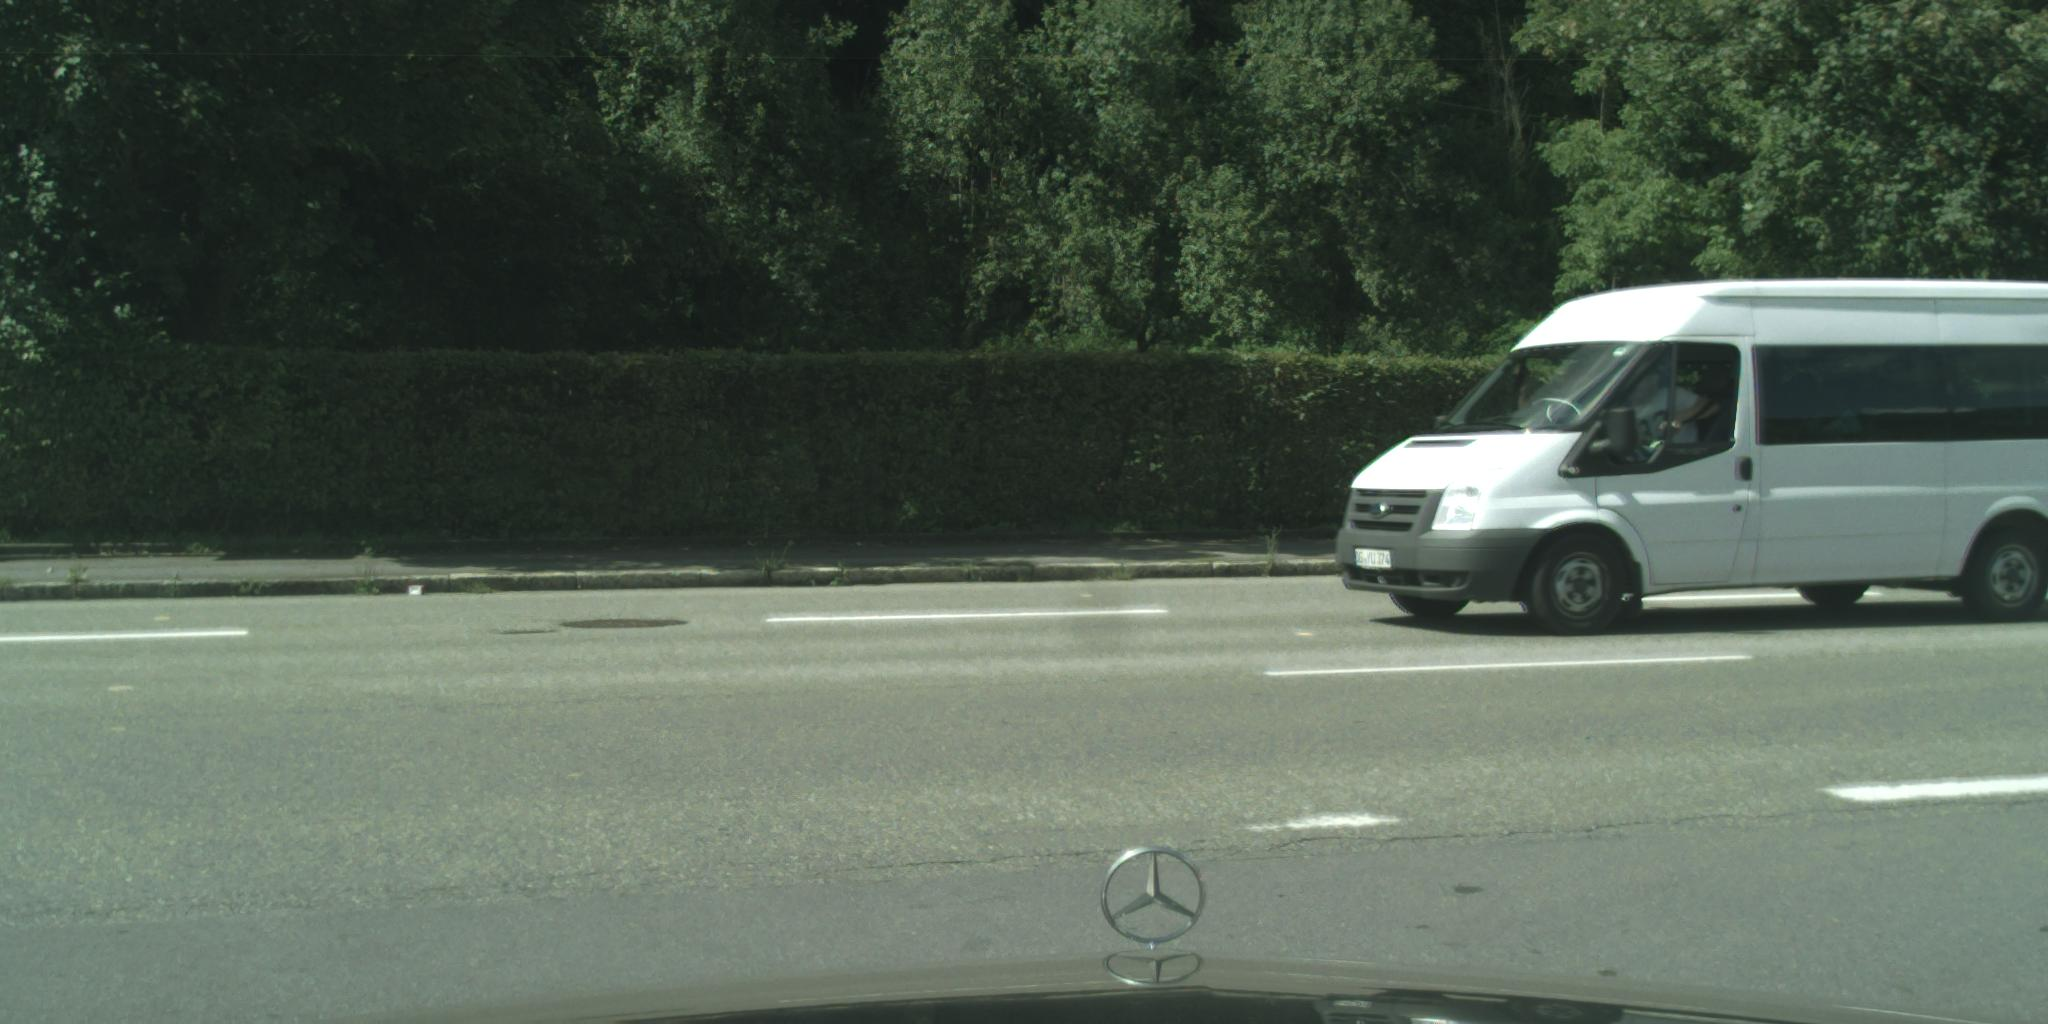car: (1335, 277, 2048, 637)
